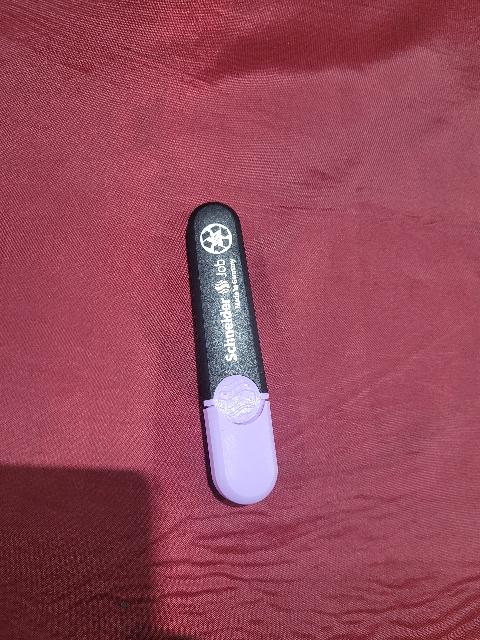Metal: (172, 201, 281, 397)
Plastik: (191, 396, 278, 506)
